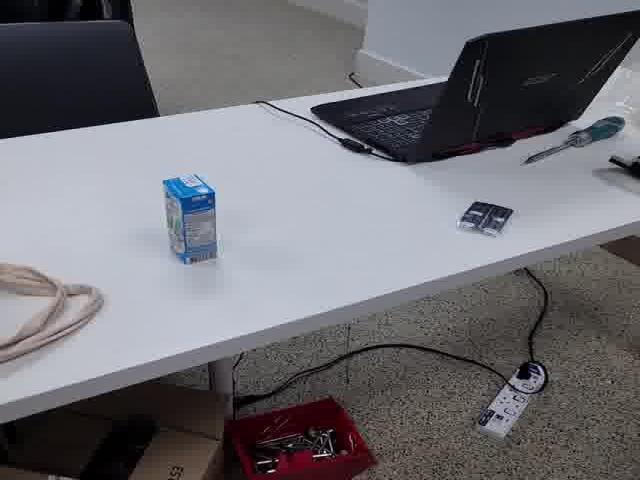drink_box: (154, 168, 223, 274)
